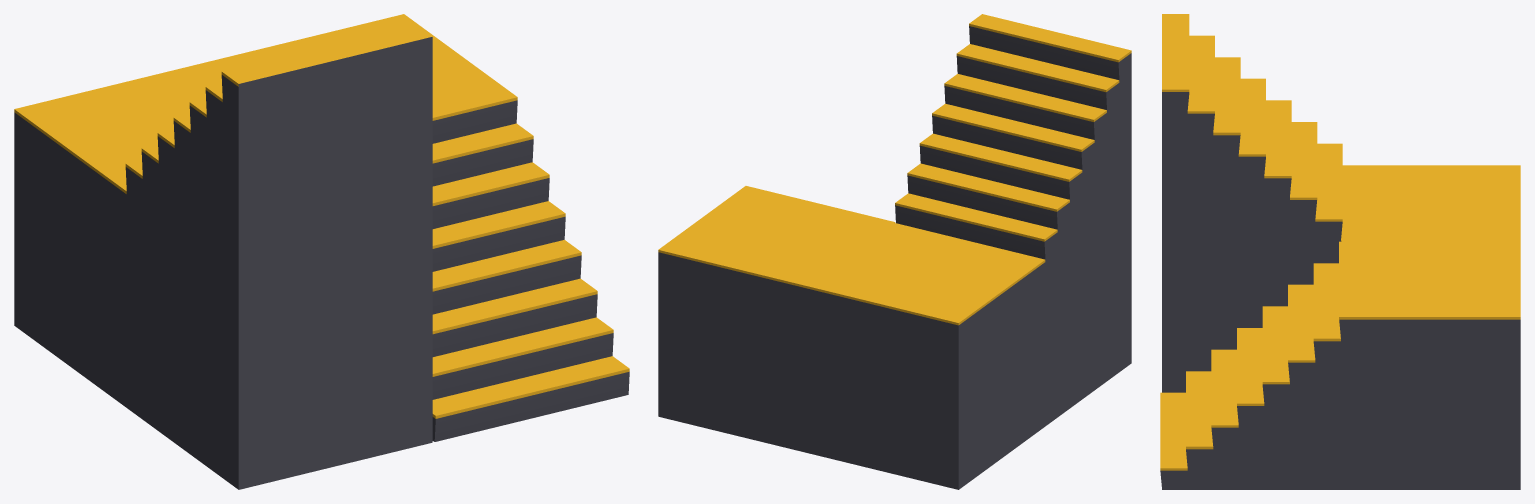
Rendered from fullHeightUShapeStairs.glb.
3 renders of one model, left to right at view 1: azimuth 30°, elevation 25°; view 2: azimuth 150°, elevation 25°; view 3: azimuth 270°, elevation 25°, orthographic. The views are drawn at different scales.
Parts seen in each view (by area): view 1: Stair_fullHeight_U; view 2: Stair_fullHeight_U; view 3: Stair_fullHeight_U.
Part boxes in pixels (x1,y1,x2,y2): Stair_fullHeight_U: (14,14,629,489); Stair_fullHeight_U: (658,14,1131,489); Stair_fullHeight_U: (1160,14,1520,489).
Size of what is drawn, in the model's own units: 4.02 by 4 by 4.03.
Materials: 1 (1 with a texture image).
